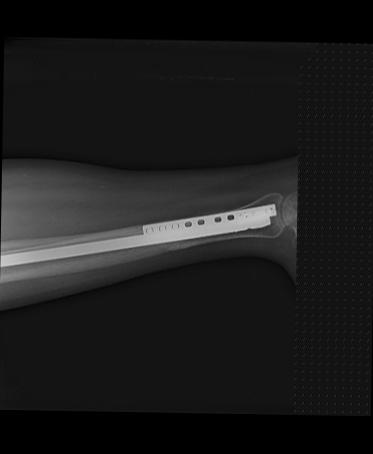fractured: (161, 237, 195, 254)
